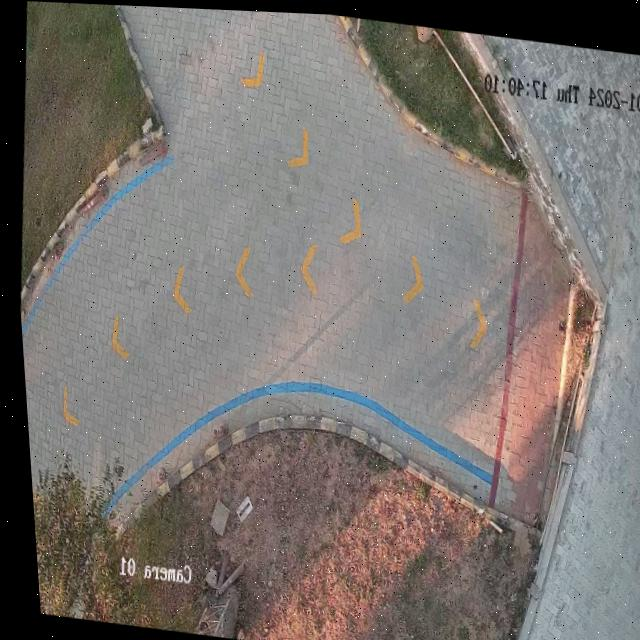No Car: (16, 1, 640, 640)
